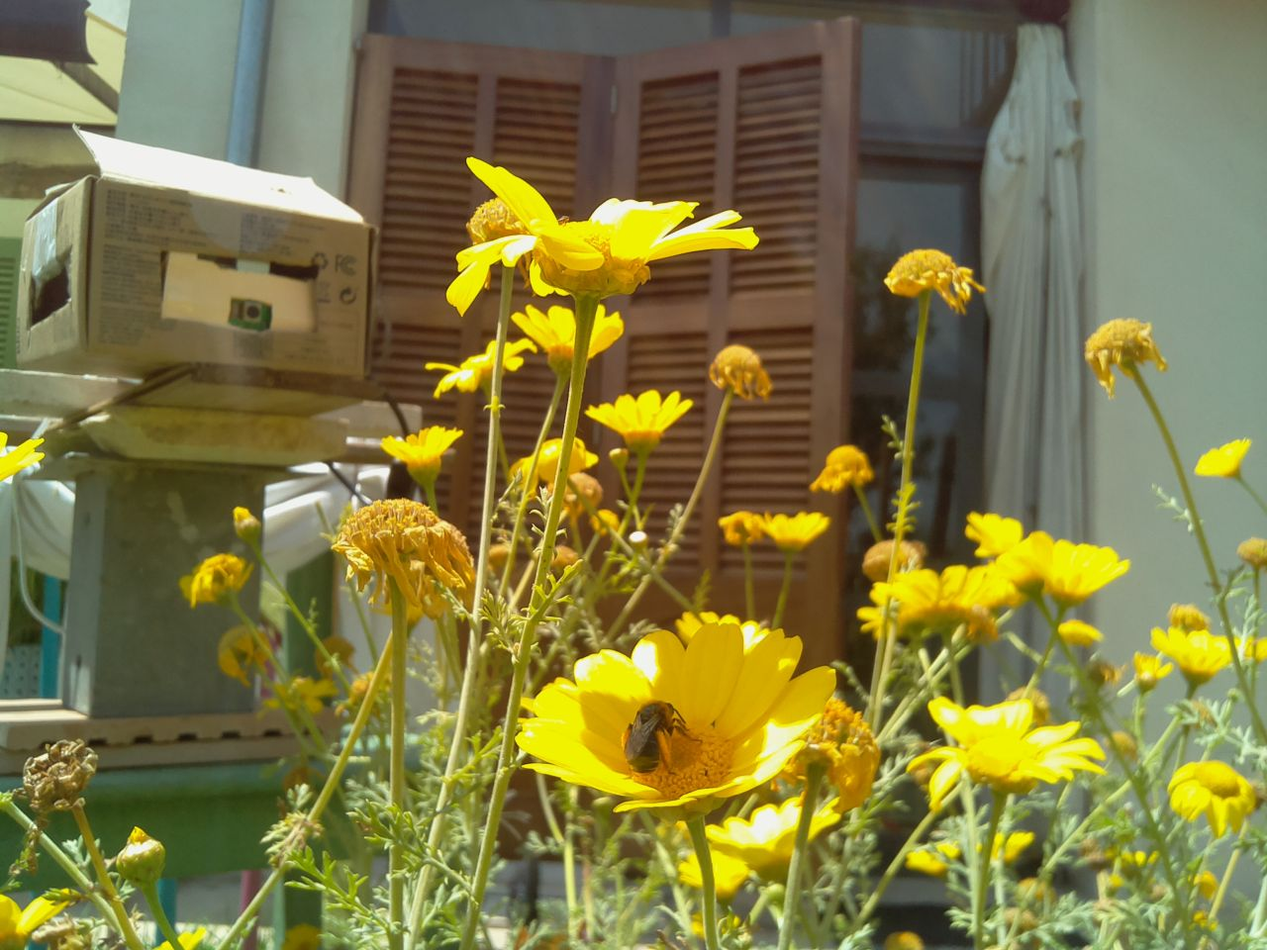Eucera: (611, 664, 698, 790)
